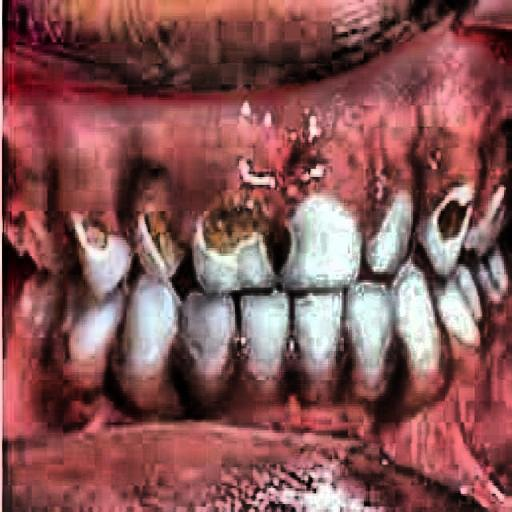Caries: (63, 199, 505, 280)
